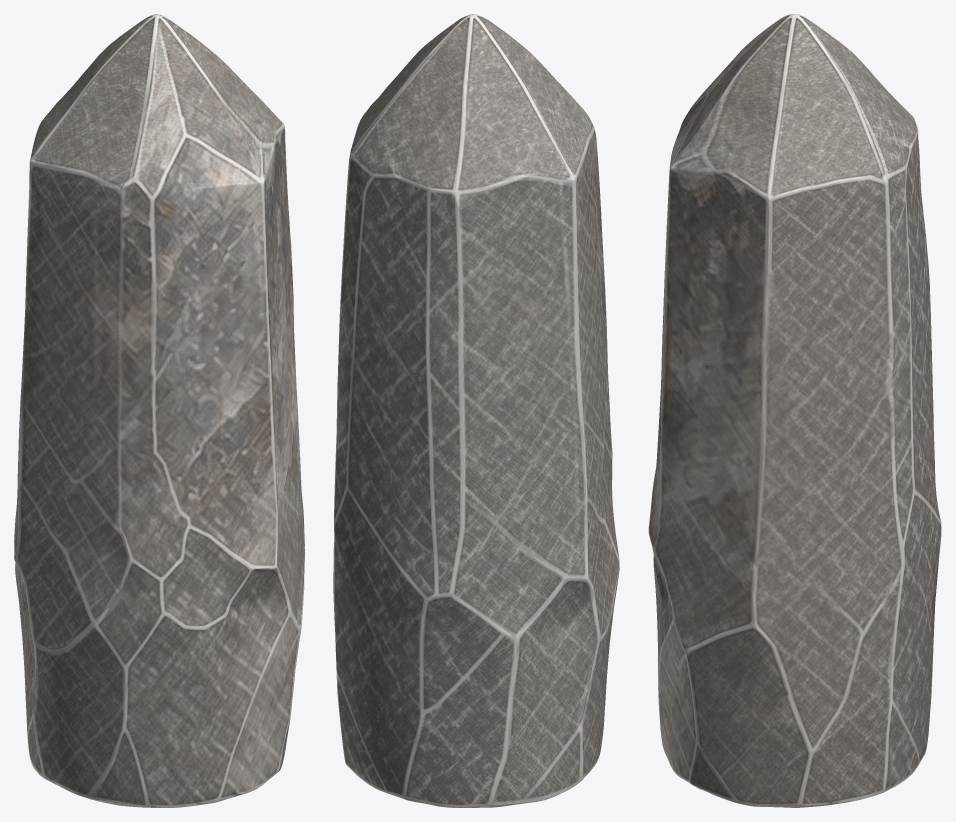
The model's file is Crystal.glb.
3 renders of one model, left to right at view 1: azimuth 30°, elevation 25°; view 2: azimuth 150°, elevation 25°; view 3: azimuth 270°, elevation 25°, orthographic.
Visible parts, largest first — view 1: Mesh_0; view 2: Mesh_0; view 3: Mesh_0.
Boxes of the visible parts, x1,y1,x2,y2 form: Mesh_0: (14, 14, 304, 807); Mesh_0: (333, 14, 619, 807); Mesh_0: (648, 14, 941, 807).
Size of the model in its own units: 0.6861 by 1.9 by 0.6787.
1 material, 1 textured.
